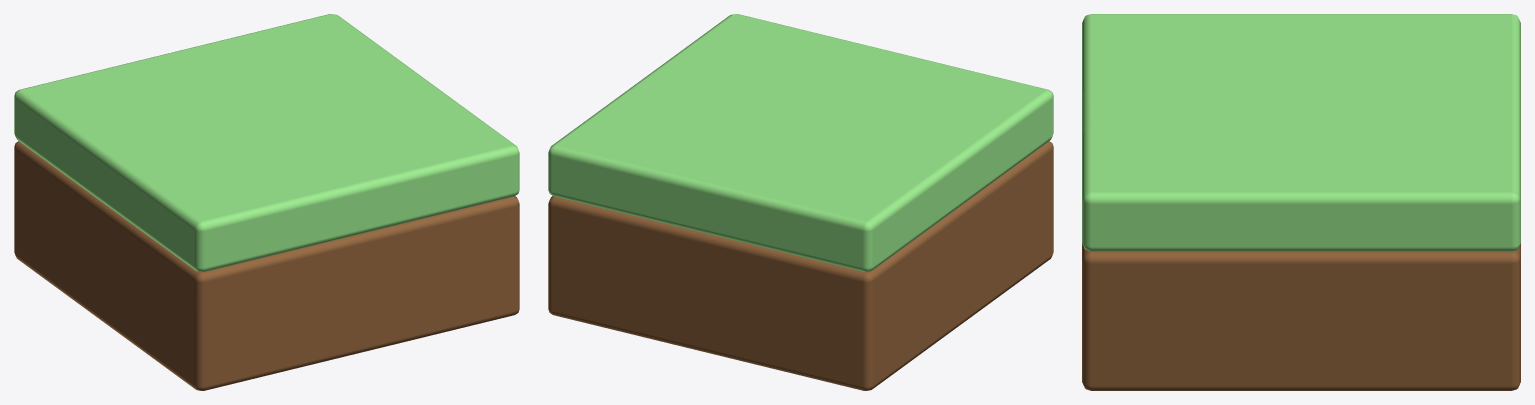
The model's file is Grass Block - Half. - Upper.glb.
3 views of the same model, side by side, from view 1: azimuth 30°, elevation 25°; view 2: azimuth 150°, elevation 25°; view 3: azimuth 270°, elevation 25° (orthographic). The views are drawn at different scales.
Parts seen in each view (by area): view 1: Half Block - Upper; view 2: Half Block - Upper; view 3: Half Block - Upper.
Boxes of the visible parts, <box> form: Half Block - Upper: <box>14,14,519,390</box>; Half Block - Upper: <box>548,14,1053,390</box>; Half Block - Upper: <box>1082,14,1520,390</box>.
Bounding box in the file's own units: 2 × 1 × 2.
